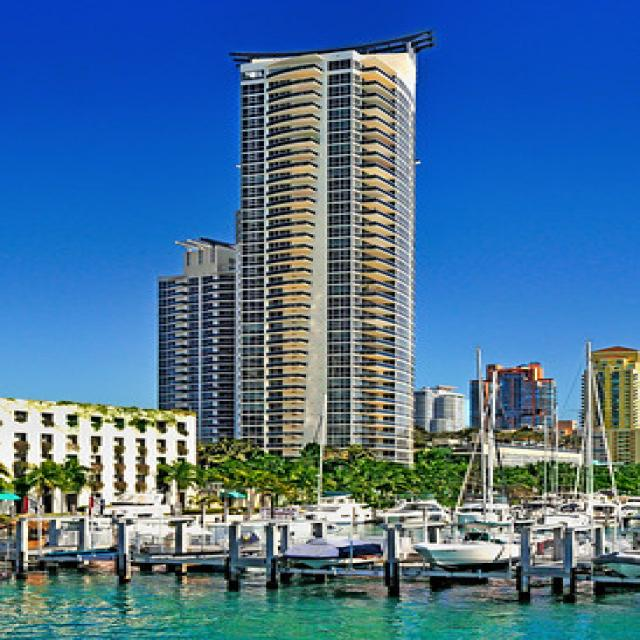Normal_building: (147, 31, 428, 495)
